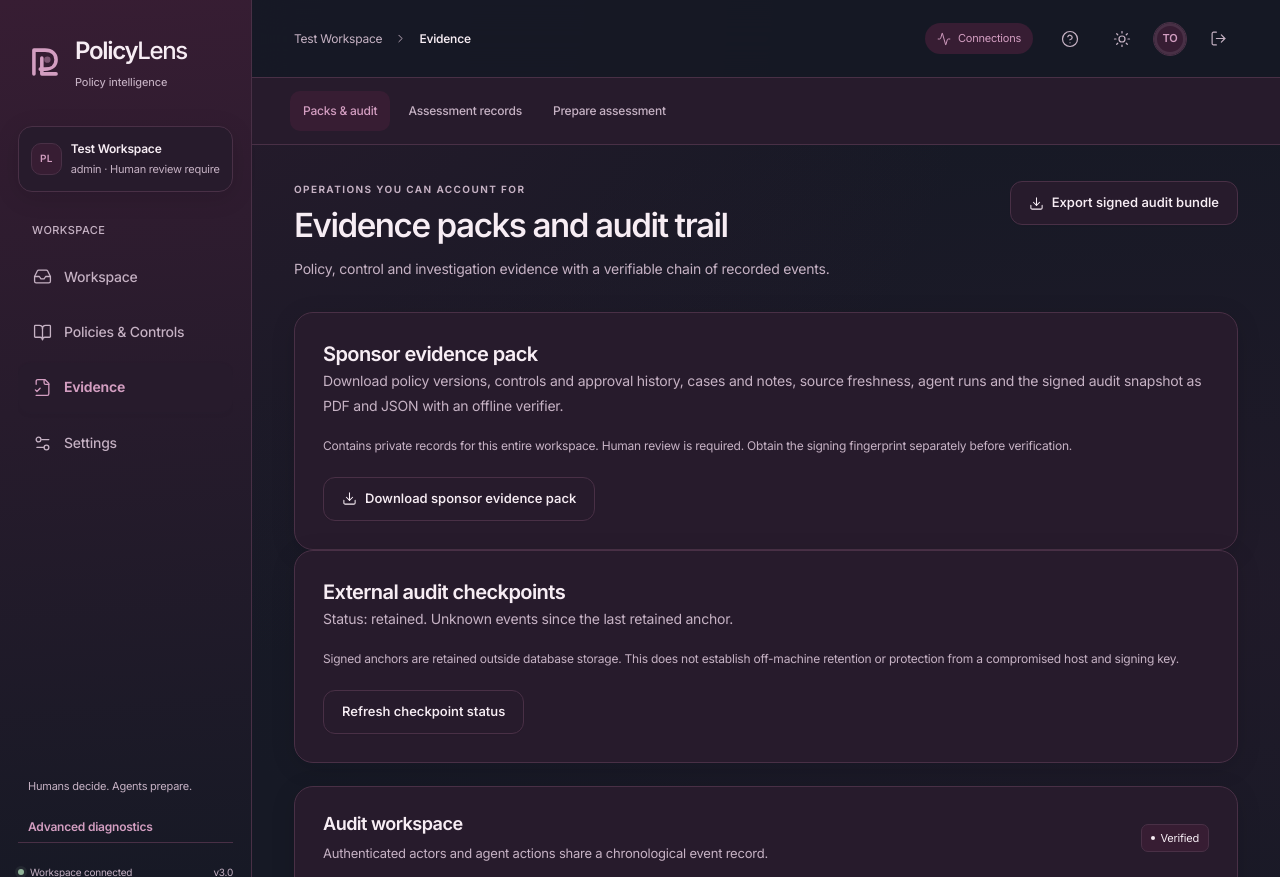
it: sponsor evidence pack failures remain visible and allow retry
Click the button "Download sponsor evidence pack": (459, 499) [323,477,595,521]
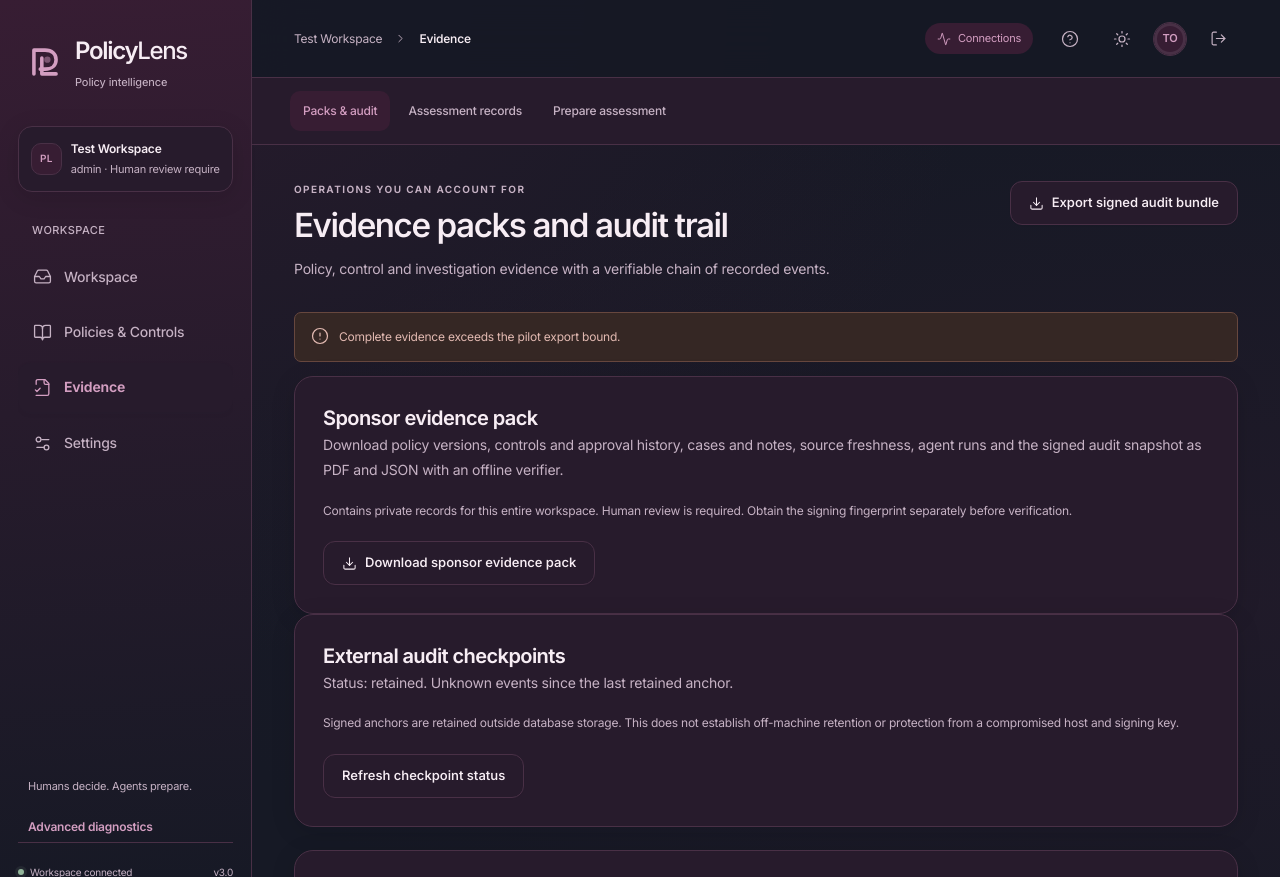
Expected: the button "Download sponsor evidence pack" is enabled, [323,541,595,585]
Result: the text "Complete evidence exceeds the pilot export bound." is shown at [339,327,620,347]
